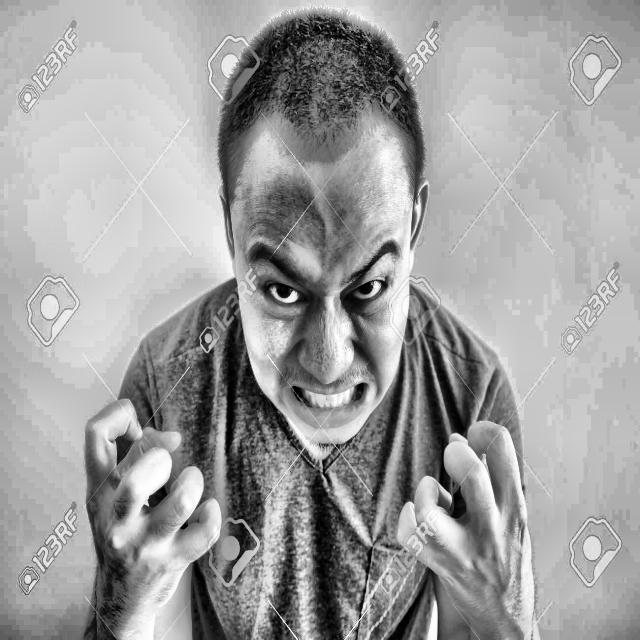angry: (201, 22, 435, 443)
